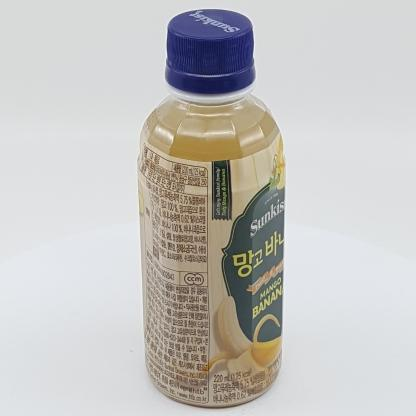-----------220ML: (137, 9, 286, 409)
